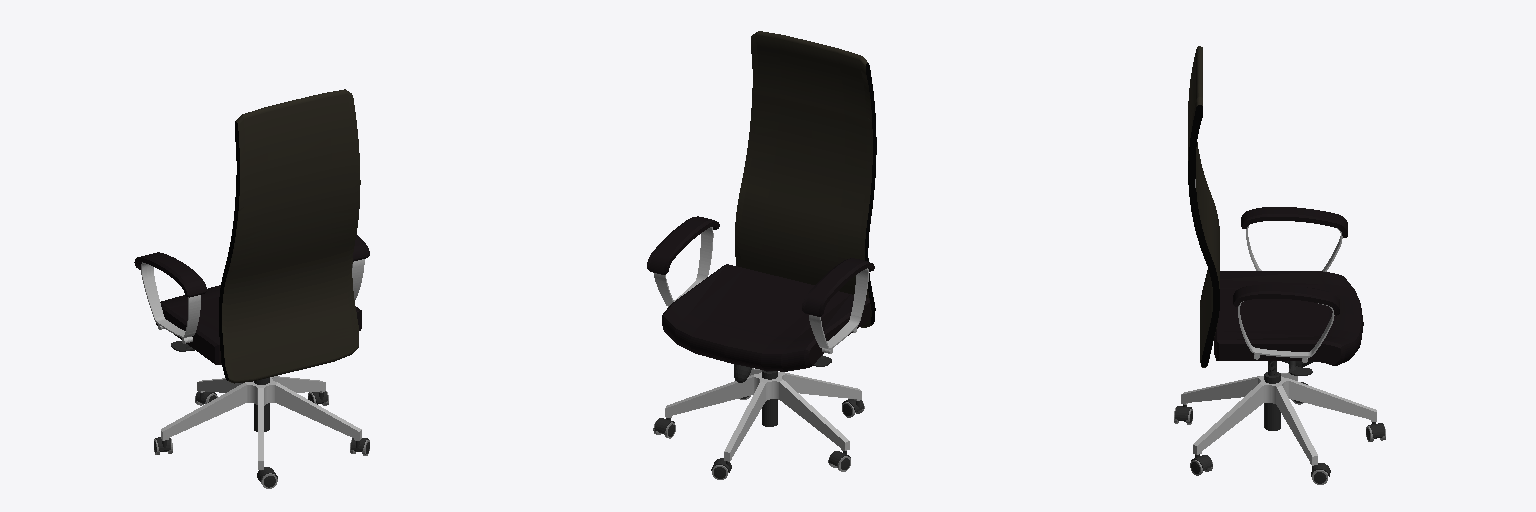
3 renders of one model, left to right at view 1: azimuth 30°, elevation 25°; view 2: azimuth 150°, elevation 25°; view 3: azimuth 270°, elevation 25°, orthographic.
Parts seen in each view (by area): view 1: Mesh1 Group1 Model, Mesh3 Group3 Model, Mesh6 Group6 Model, Mesh12 Group10 Armrest2 Model, Mesh13 Group11 Armrest2 Model; view 2: Mesh1 Group1 Model, Mesh6 Group6 Model, Mesh3 Group3 Model, Mesh13 Group11 Armrest2 Model, Mesh9 Group9 Armrest1 Model, Mesh12 Group10 Armrest2 Model, Mesh8 Group8 Armrest1 Model, Mesh2 Group2 Model; view 3: Mesh6 Group6 Model, Mesh3 Group3 Model, Mesh1 Group1 Model, Mesh9 Group9 Armrest1 Model, Mesh13 Group11 Armrest2 Model, Mesh2 Group2 Model, Mesh8 Group8 Armrest1 Model.
Part boxes in pixels (x1,y1,x2,y2): Mesh1 Group1 Model: (219,89,360,383); Mesh3 Group3 Model: (161,376,361,469); Mesh6 Group6 Model: (156,285,361,364); Mesh12 Group10 Armrest2 Model: (141,262,200,337); Mesh13 Group11 Armrest2 Model: (134,252,206,297); Mesh1 Group1 Model: (735,31,876,327); Mesh6 Group6 Model: (662,264,869,371); Mesh3 Group3 Model: (665,368,861,461); Mesh13 Group11 Armrest2 Model: (802,258,874,316); Mesh9 Group9 Armrest1 Model: (647,216,719,274); Mesh12 Group10 Armrest2 Model: (809,268,868,349); Mesh8 Group8 Armrest1 Model: (654,227,713,306); Mesh2 Group2 Model: (762,370,777,426); Mesh6 Group6 Model: (1214,271,1363,365); Mesh3 Group3 Model: (1181,372,1376,465); Mesh1 Group1 Model: (1188,46,1219,367); Mesh9 Group9 Armrest1 Model: (1233,284,1339,315); Mesh13 Group11 Armrest2 Model: (1241,207,1347,237); Mesh2 Group2 Model: (1264,361,1280,430); Mesh8 Group8 Armrest1 Model: (1238,301,1334,357).
Bounding box in the file's own units: 0.4398 × 0.8543 × 0.4445.